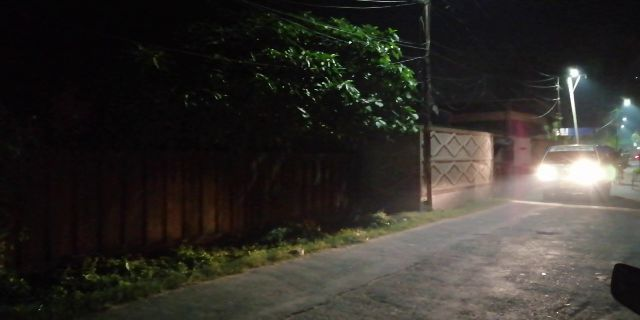Car: (535, 144, 606, 198)
